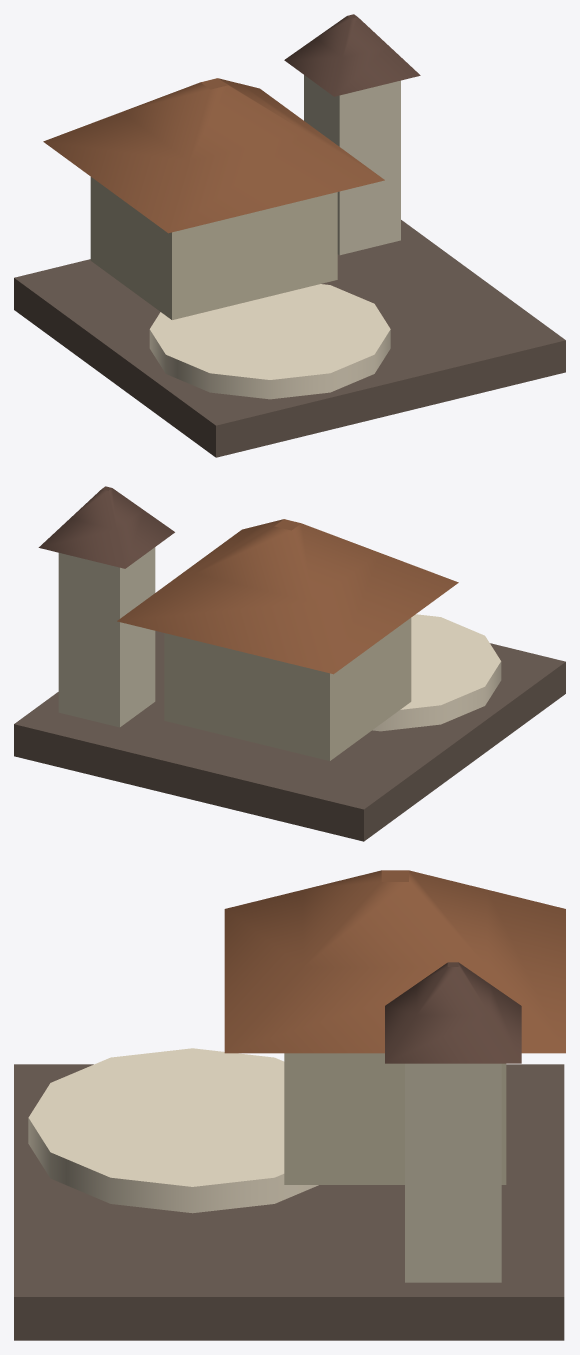
File: xiu_lian_fen_feng.glb
The picture shows the model from 3 angles, top to bottom: view 1: azimuth 30°, elevation 25°; view 2: azimuth 150°, elevation 25°; view 3: azimuth 270°, elevation 25°; orthographic projection. The views are drawn at different scales.
Parts seen in each view (by area): view 1: _MeshInstance3D_79, _MeshInstance3D_82, _MeshInstance3D_81, _MeshInstance3D_80, _MeshInstance3D_83, _MeshInstance3D_84; view 2: _MeshInstance3D_79, _MeshInstance3D_82, _MeshInstance3D_81, _MeshInstance3D_83, _MeshInstance3D_80, _MeshInstance3D_84; view 3: _MeshInstance3D_79, _MeshInstance3D_82, _MeshInstance3D_80, _MeshInstance3D_83, _MeshInstance3D_81, _MeshInstance3D_84.
Boxes of the visible parts, <box> form: _MeshInstance3D_79: <box>14,220,565,457</box>; _MeshInstance3D_82: <box>43,78,384,233</box>; _MeshInstance3D_81: <box>90,177,337,319</box>; _MeshInstance3D_80: <box>149,284,390,399</box>; _MeshInstance3D_83: <box>304,75,400,255</box>; _MeshInstance3D_84: <box>284,14,420,96</box>; _MeshInstance3D_79: <box>14,631,565,841</box>; _MeshInstance3D_82: <box>117,519,458,674</box>; _MeshInstance3D_81: <box>164,618,411,760</box>; _MeshInstance3D_83: <box>58,547,155,727</box>; _MeshInstance3D_80: <box>372,614,501,731</box>; _MeshInstance3D_84: <box>38,486,174,568</box>; _MeshInstance3D_79: <box>14,1064,564,1340</box>; _MeshInstance3D_82: <box>224,870,565,1053</box>; _MeshInstance3D_80: <box>28,1048,318,1213</box>; _MeshInstance3D_83: <box>405,1063,501,1282</box>; _MeshInstance3D_81: <box>284,1053,506,1184</box>; _MeshInstance3D_84: <box>385,962,521,1063</box>.
Bounding box in the file's own units: 1.14 × 0.78 × 1.14.
